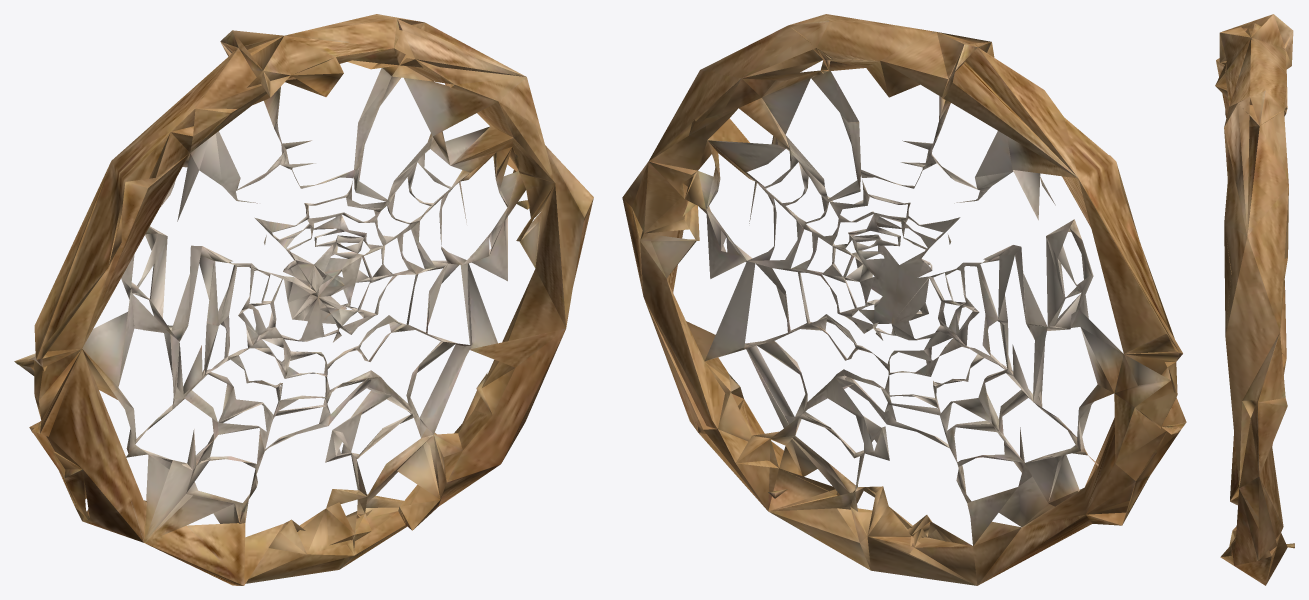
The model's file is spiderWeb.glb.
3 views of the same model, side by side, from view 1: azimuth 30°, elevation 25°; view 2: azimuth 150°, elevation 25°; view 3: azimuth 270°, elevation 25° (orthographic). The views are drawn at different scales.
Parts seen in each view (by area): view 1: model; view 2: model; view 3: model.
Boxes of the visible parts, x1,y1,x2,y2 form: model: (14,14,593,585); model: (622,14,1186,585); model: (1215,14,1294,585).
Bounding box in the file's own units: 1.91 × 1.81 × 0.2538.
Materials: 1 (1 with a texture image).
